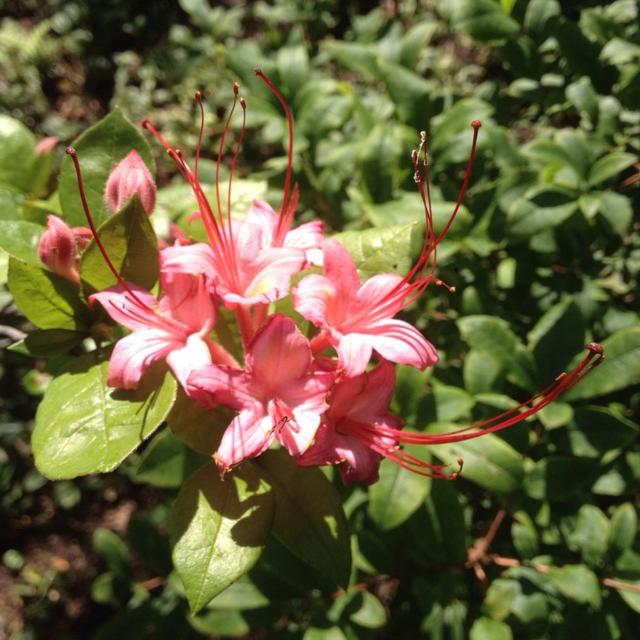Flower: (36, 70, 612, 500), (200, 306, 360, 478)
